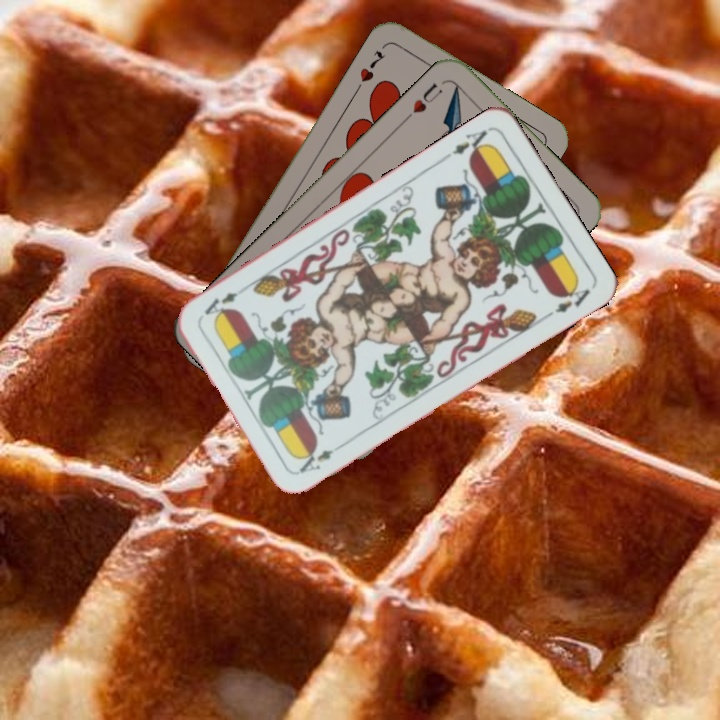EA: (440, 124, 493, 163), (294, 445, 336, 476)
H7: (355, 46, 388, 85)
HU: (401, 79, 446, 123)
